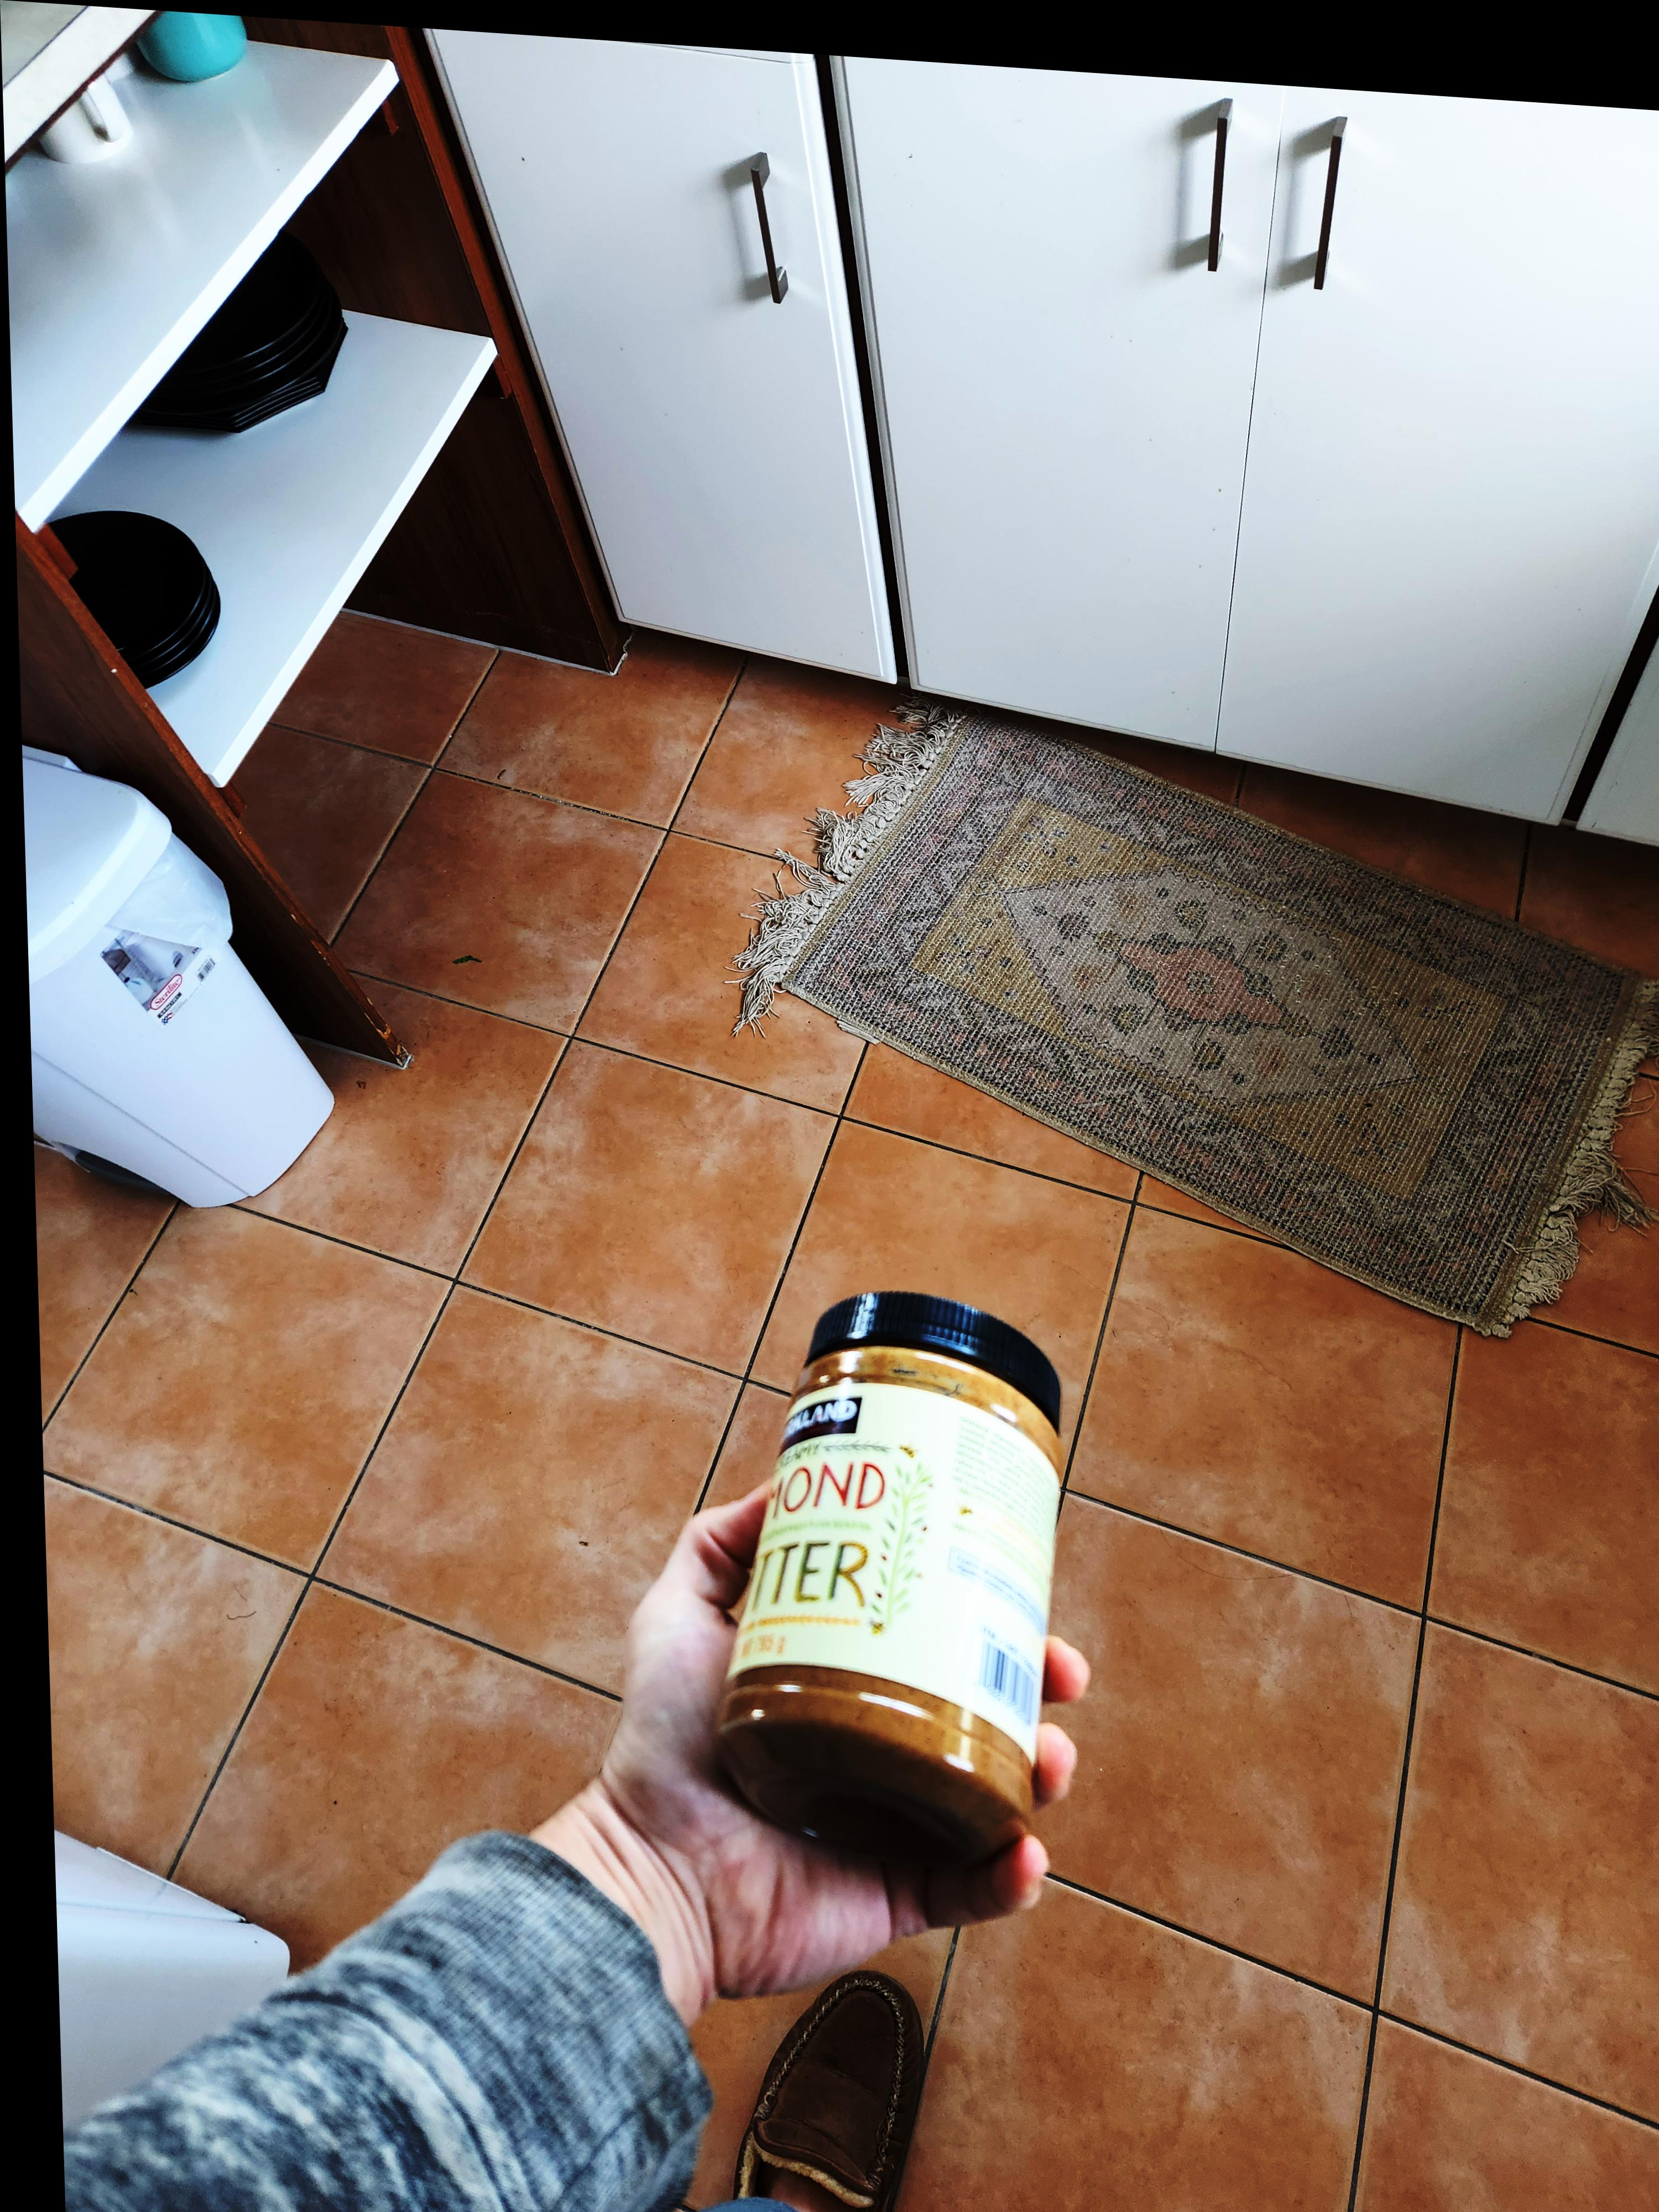almond butter: (514, 1691, 798, 2212)
